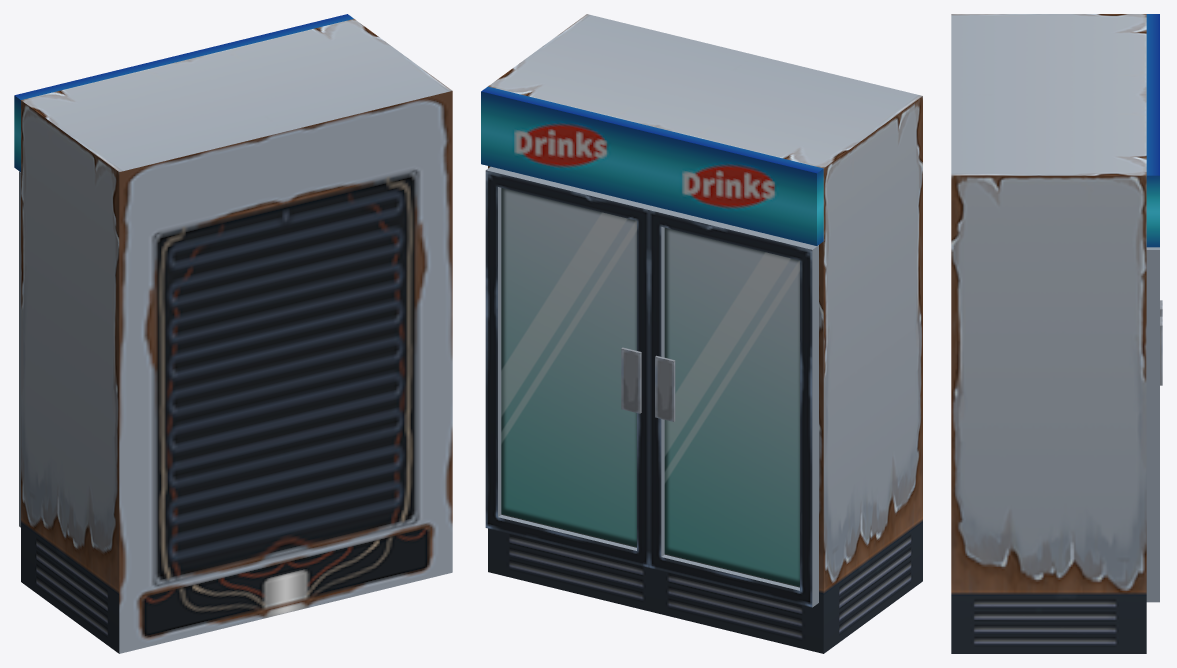
Rendered from FUR0110015.fbx.
The picture shows the model from 3 angles, left to right: view 1: azimuth 30°, elevation 25°; view 2: azimuth 150°, elevation 25°; view 3: azimuth 270°, elevation 25°; orthographic projection.
Visible parts, largest first — view 1: smFUR0110015; view 2: smFUR0110015; view 3: smFUR0110015.
Boxes of the visible parts, <box> form: smFUR0110015: <box>14,14,452,653</box>; smFUR0110015: <box>481,14,922,653</box>; smFUR0110015: <box>951,14,1162,653</box>.
Size of the model in its own units: 167 by 230 by 92.08.
Materials: 1 (1 with a texture image).
